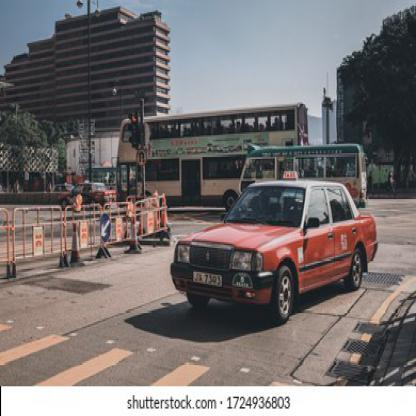taxi: (167, 169, 382, 335)
